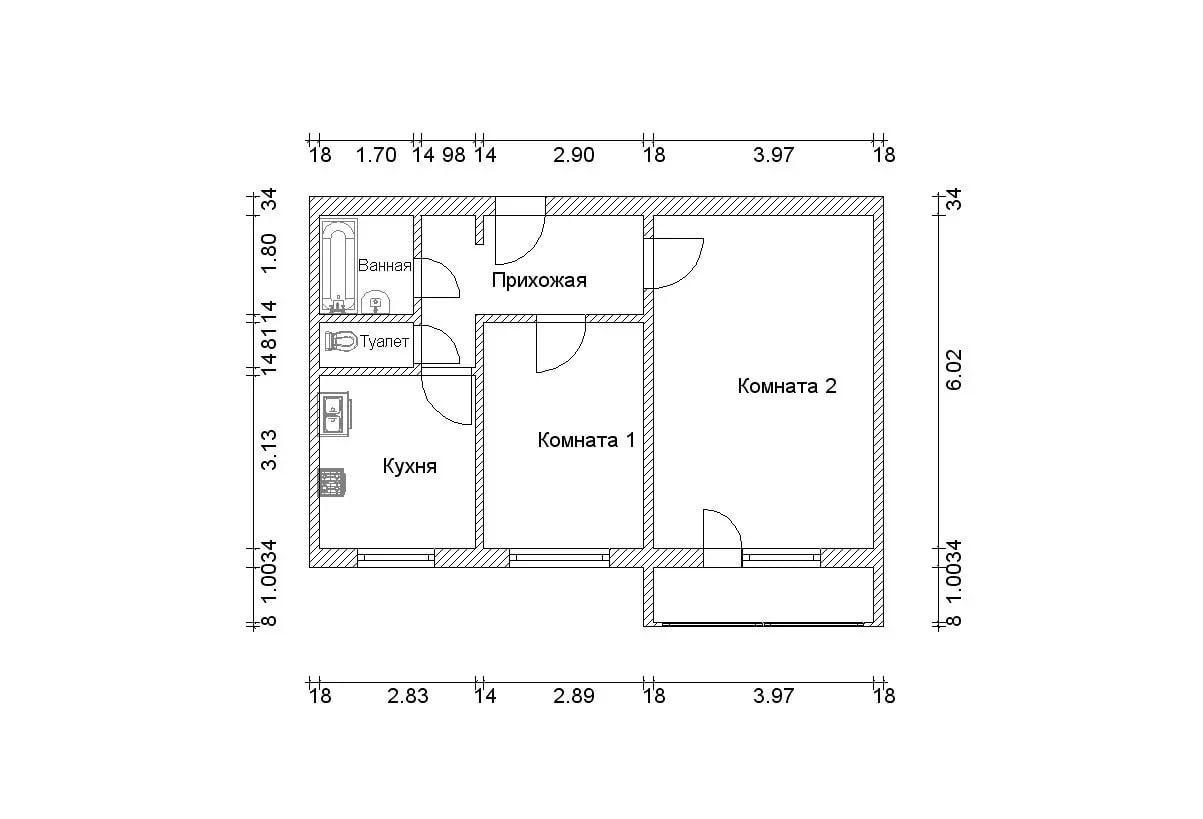balcony: (656, 567, 876, 622)
bathroom: (320, 216, 413, 314)
bedroom: (482, 322, 643, 549)
hallway: (420, 213, 644, 367)
kitchen: (321, 376, 477, 549)
living_room: (654, 214, 876, 549)
toilet: (319, 323, 414, 367)
